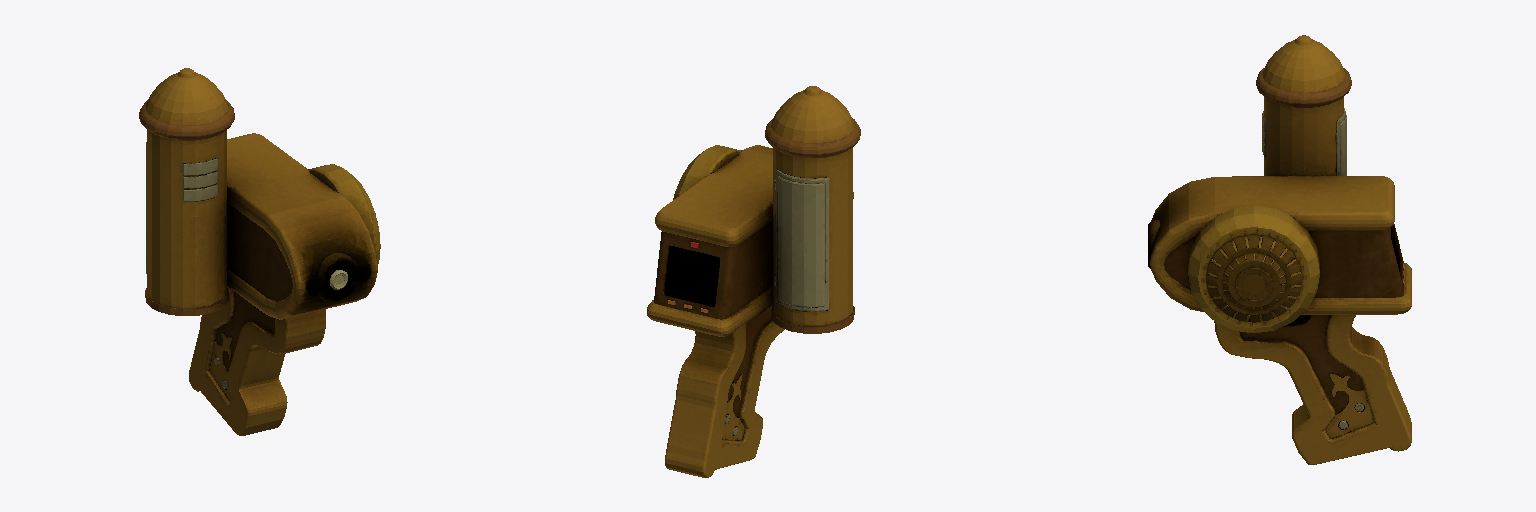
3 renders of one model, left to right at view 1: azimuth 30°, elevation 25°; view 2: azimuth 150°, elevation 25°; view 3: azimuth 270°, elevation 25°, orthographic.
Parts seen in each view (by area): view 1: memory_gun_Memory_gun_texture_0; view 2: memory_gun_Memory_gun_texture_0; view 3: memory_gun_Memory_gun_texture_0.
Boxes of the visible parts, x1,y1,x2,y2 form: memory_gun_Memory_gun_texture_0: [139, 68, 380, 435]; memory_gun_Memory_gun_texture_0: [647, 86, 860, 477]; memory_gun_Memory_gun_texture_0: [1148, 35, 1411, 464].
Bounding box in the file's own units: 28.47 × 52.58 × 33.01.
1 materials, 1 textured.